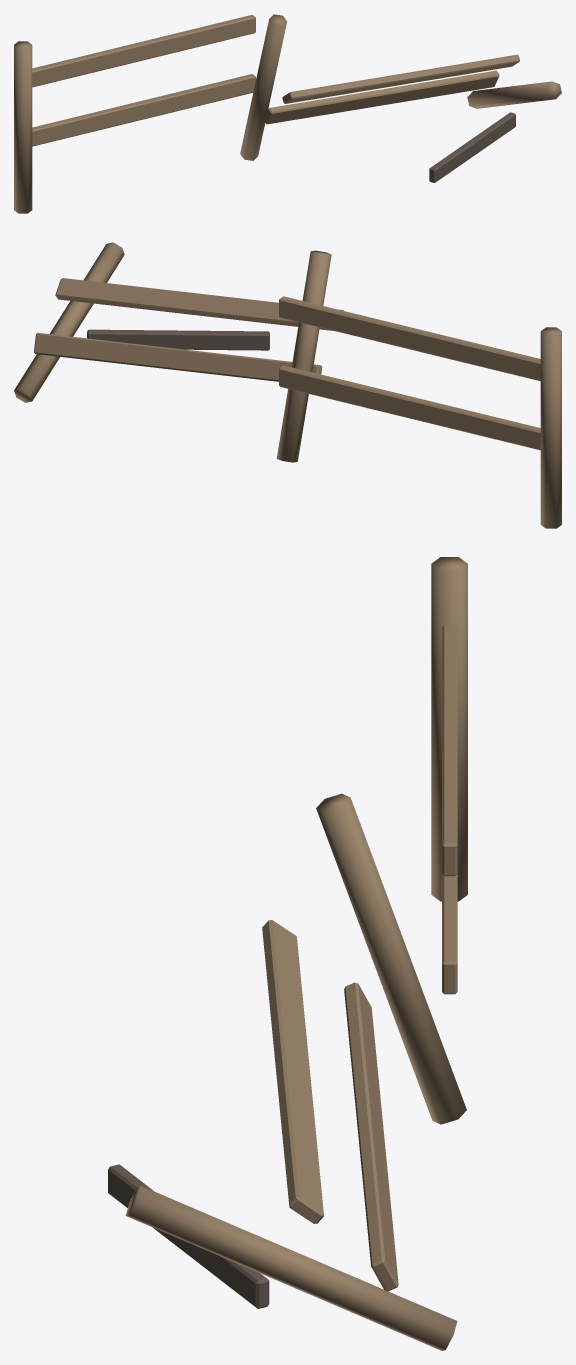
The model's file is v_broken_fence.glb.
The picture shows the model from 3 angles, top to bottom: view 1: azimuth 30°, elevation 25°; view 2: azimuth 150°, elevation 25°; view 3: azimuth 270°, elevation 25°; orthographic projection. The views are drawn at different scales.
Parts seen in each view (by area): view 1: Broken_fence; view 2: Broken_fence; view 3: Broken_fence.
Part boxes in pixels (x1,y1,x2,y2): Broken_fence: (14,14,561,213); Broken_fence: (14,242,561,528); Broken_fence: (108,557,467,1350).
Size of what is drawn, in the model's own units: 4.12 by 1.46 by 1.38.
